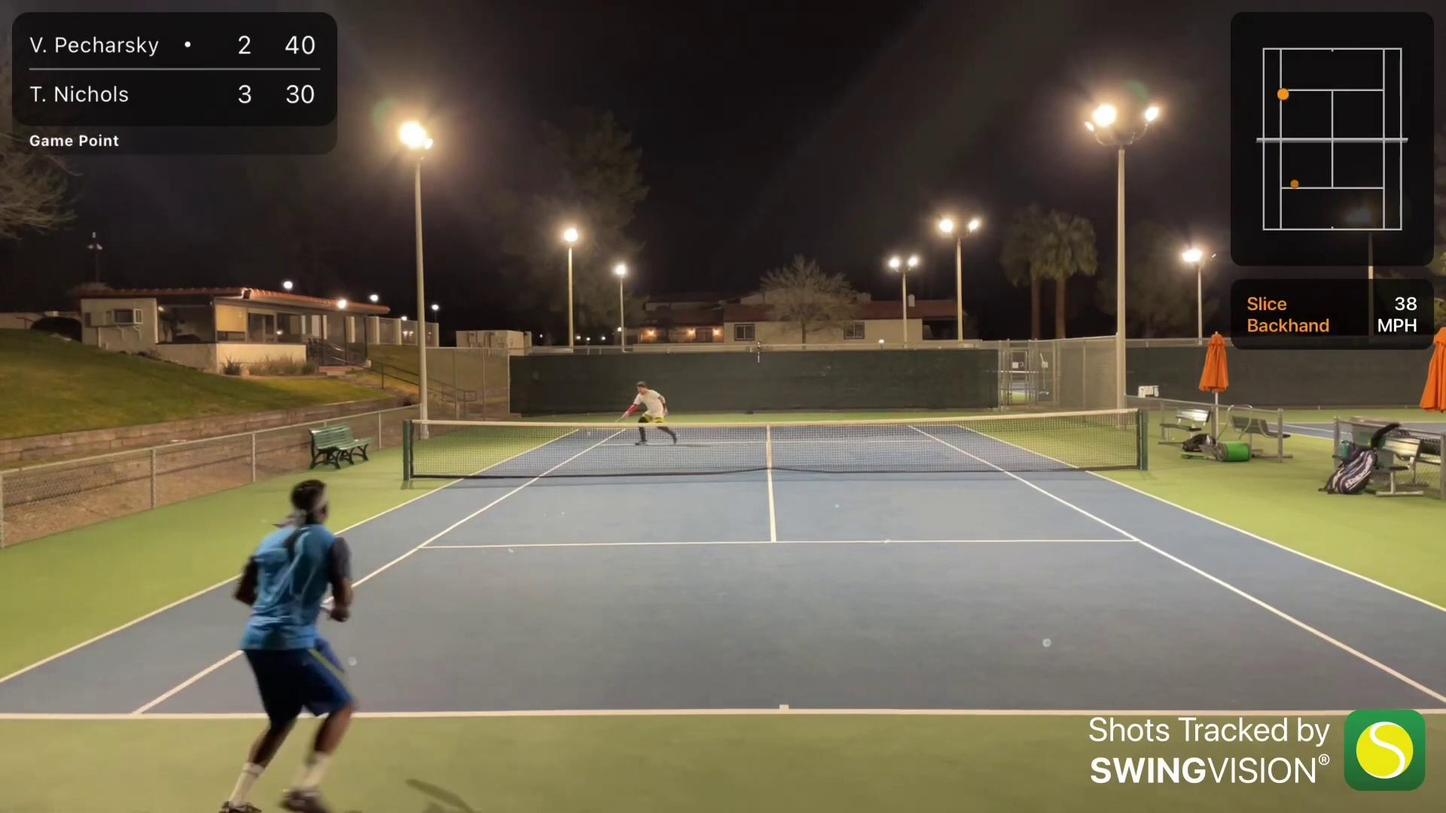ball: (585, 429, 594, 439)
